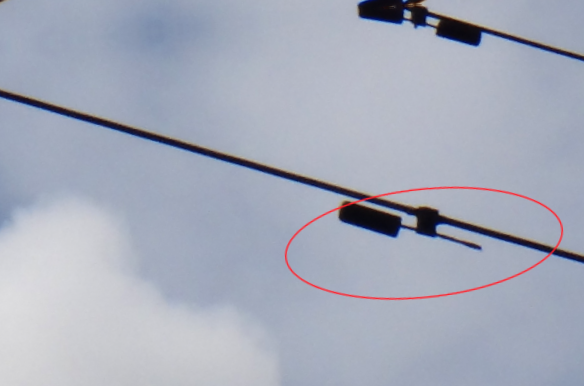damper: (355, 1, 485, 50)
damper_defect: (336, 197, 485, 253)
